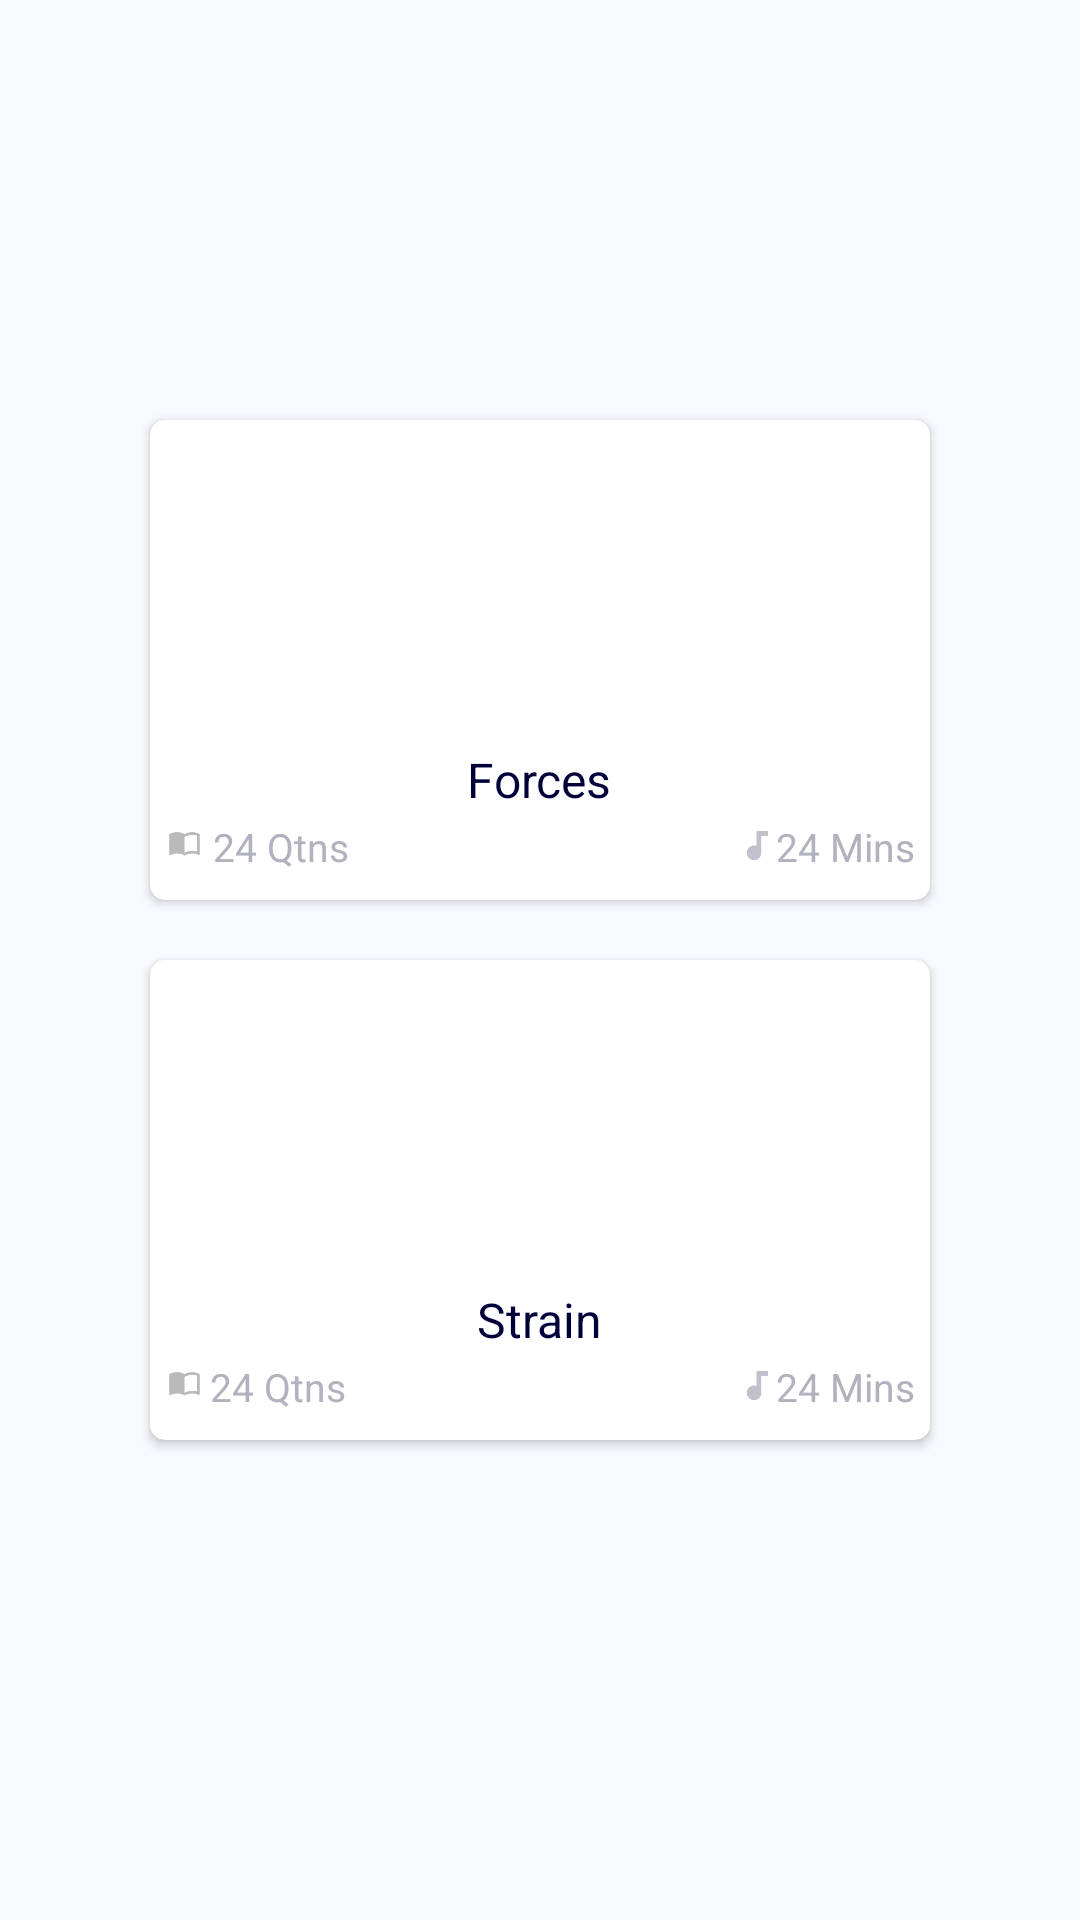

Screen size 1080*1920. Icon name, then its center in pixels as [x,y]:
audio: [757,845], [757,1385]
